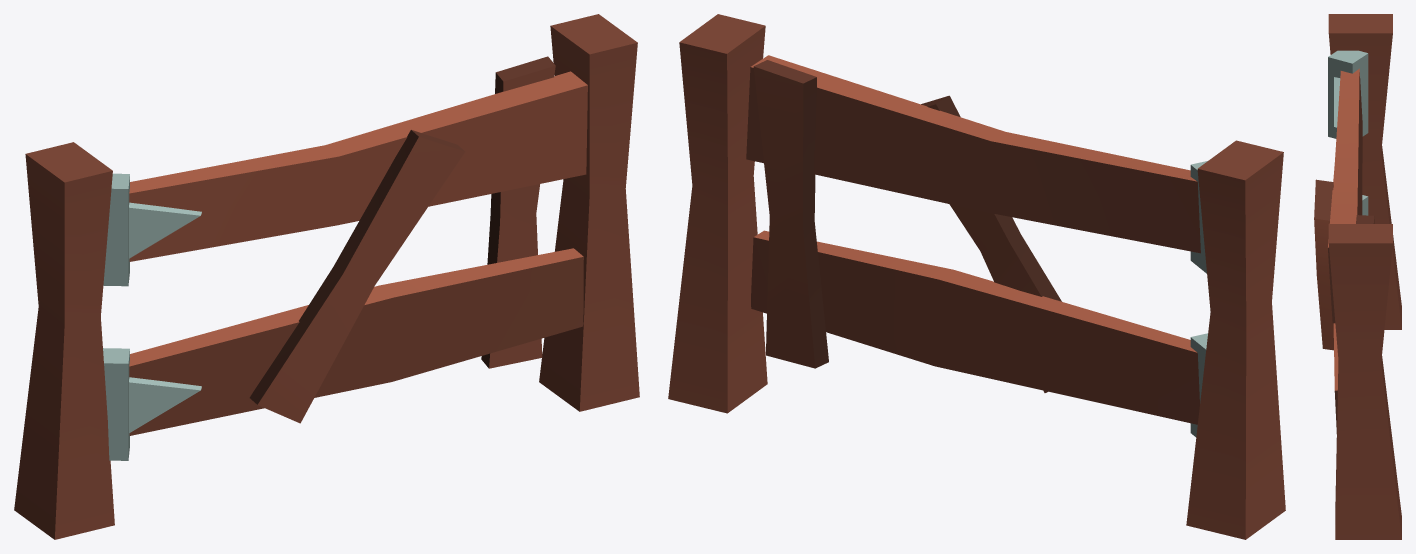
Rendered from Wooden_gate_close_1.fbx.
3 views of the same model, side by side, from view 1: azimuth 30°, elevation 25°; view 2: azimuth 150°, elevation 25°; view 3: azimuth 270°, elevation 25° (orthographic). The views are drawn at different scales.
Parts seen in each view (by area): view 1: Wooden_gate_close_1; view 2: Wooden_gate_close_1; view 3: Wooden_gate_close_1.
Boxes of the visible parts, x1=… form: Wooden_gate_close_1: x1=14, y1=14, x2=639, y2=539; Wooden_gate_close_1: x1=668, y1=14, x2=1285, y2=539; Wooden_gate_close_1: x1=1314, y1=14, x2=1401, y2=539.
Size of the model in its own units: 0.0239 by 0.014 by 0.00379.
